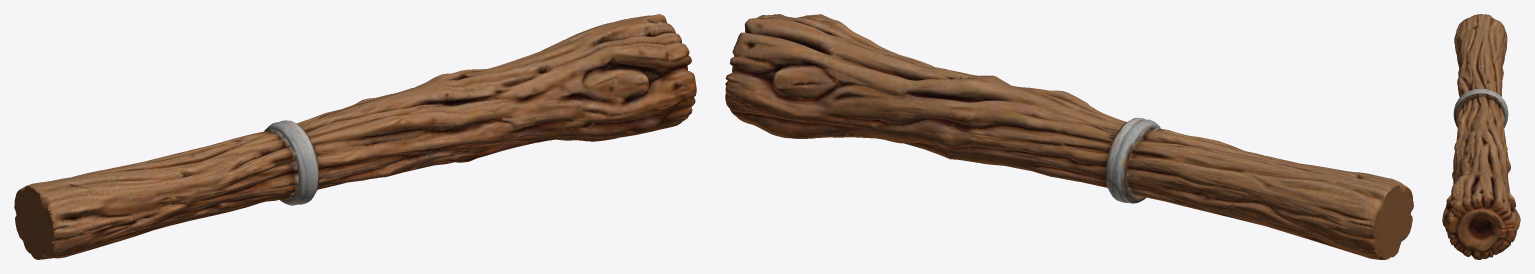
File: david_waist_club_game.glb
The picture shows the model from 3 angles, left to right: view 1: azimuth 30°, elevation 25°; view 2: azimuth 150°, elevation 25°; view 3: azimuth 270°, elevation 25°; orthographic projection. The views are drawn at different scales.
Parts seen in each view (by area): view 1: tripo_node_2b6aeb67-4d02-43f5-98a4-edd076da1bb4; view 2: tripo_node_2b6aeb67-4d02-43f5-98a4-edd076da1bb4; view 3: tripo_node_2b6aeb67-4d02-43f5-98a4-edd076da1bb4.
Boxes of the visible parts, x1,y1,x2,y2 form: tripo_node_2b6aeb67-4d02-43f5-98a4-edd076da1bb4: (14, 14, 696, 259); tripo_node_2b6aeb67-4d02-43f5-98a4-edd076da1bb4: (725, 14, 1413, 259); tripo_node_2b6aeb67-4d02-43f5-98a4-edd076da1bb4: (1442, 14, 1520, 259).
Bounding box in the file's own units: 0.983 × 0.1583 × 0.1674.
Materials: 1 (1 with a texture image).
